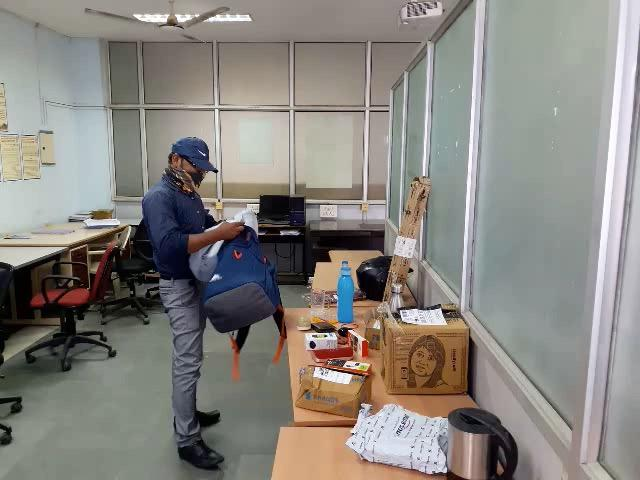shoplifting: (136, 205, 317, 337)
